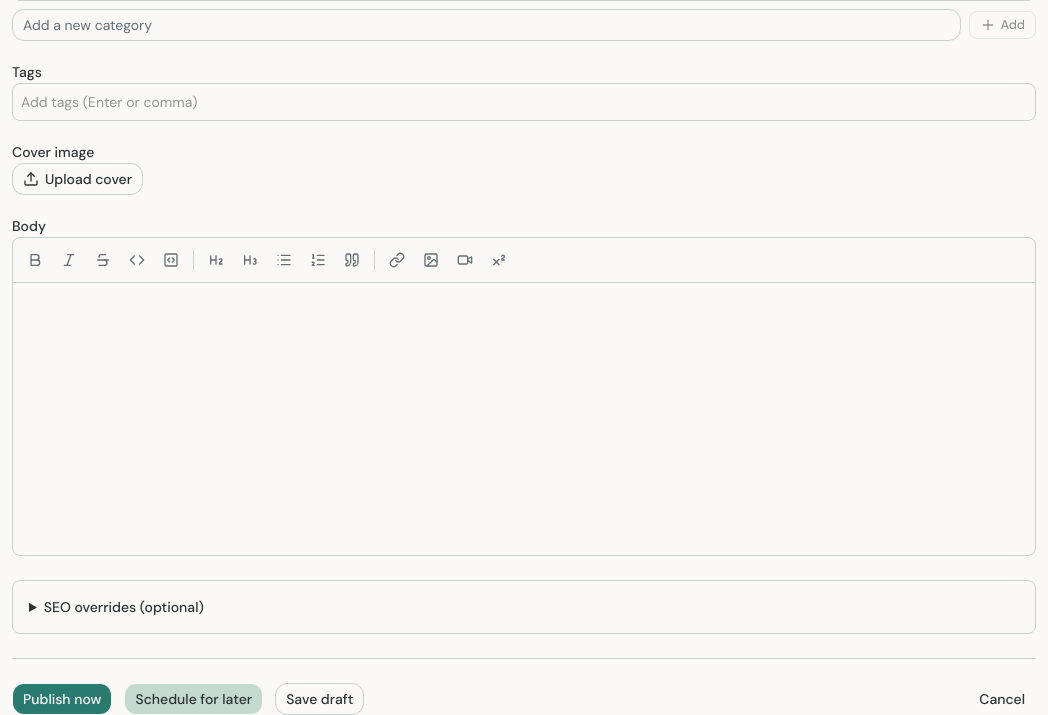
Test: saving a post that does not exist yet › offers a retry on a stall, now that a second save cannot duplicate the post
The width and height of the screenshot is (1048, 715).
(page scrolled)
Click the button "Save draft": (320, 699) x1=275 y1=683 x2=364 y2=714
Wait 22000 ms
(page scrolled)
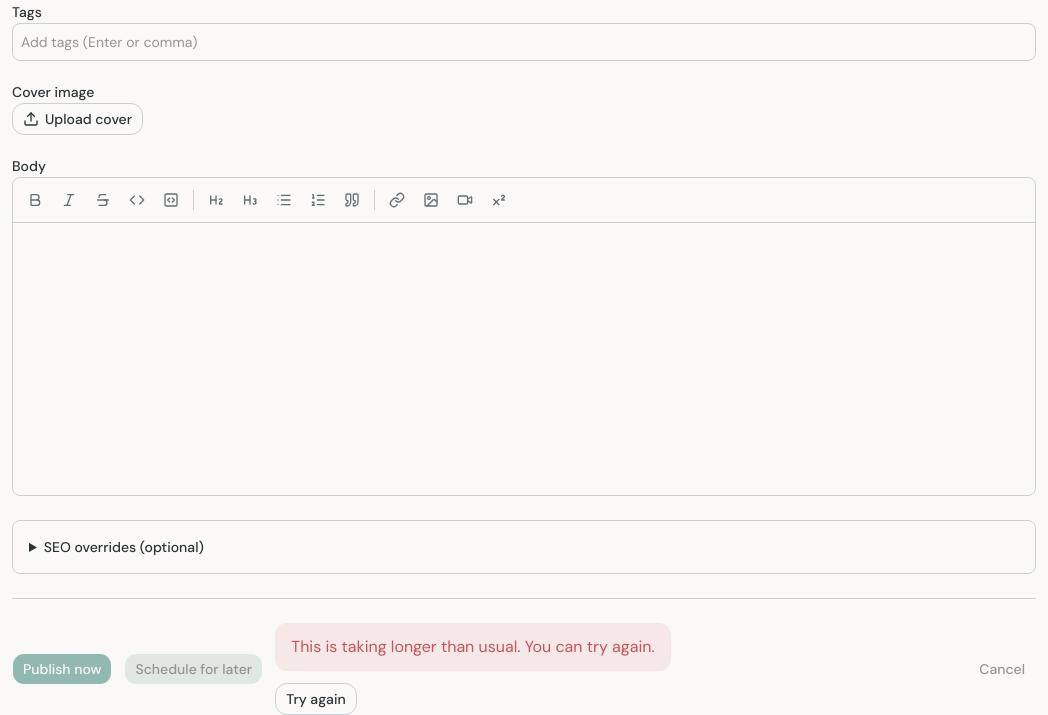
Expected: the button "Try again" is shown, x1=275 y1=683 x2=357 y2=714
